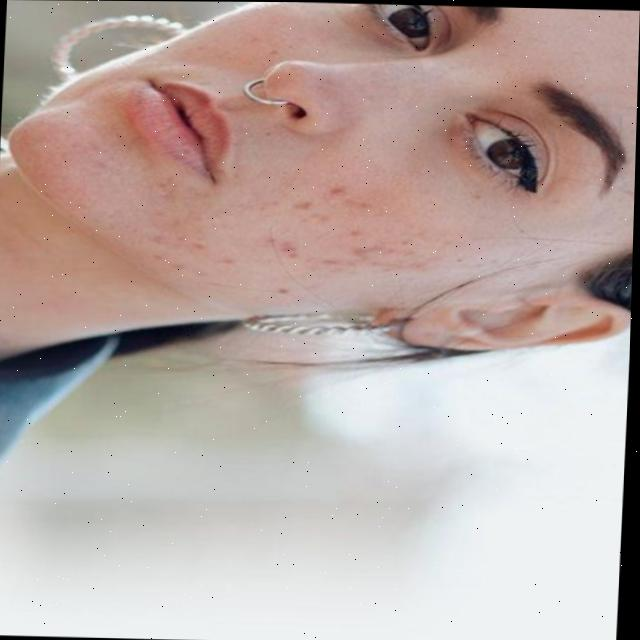Acne: (141, 161, 425, 302)
